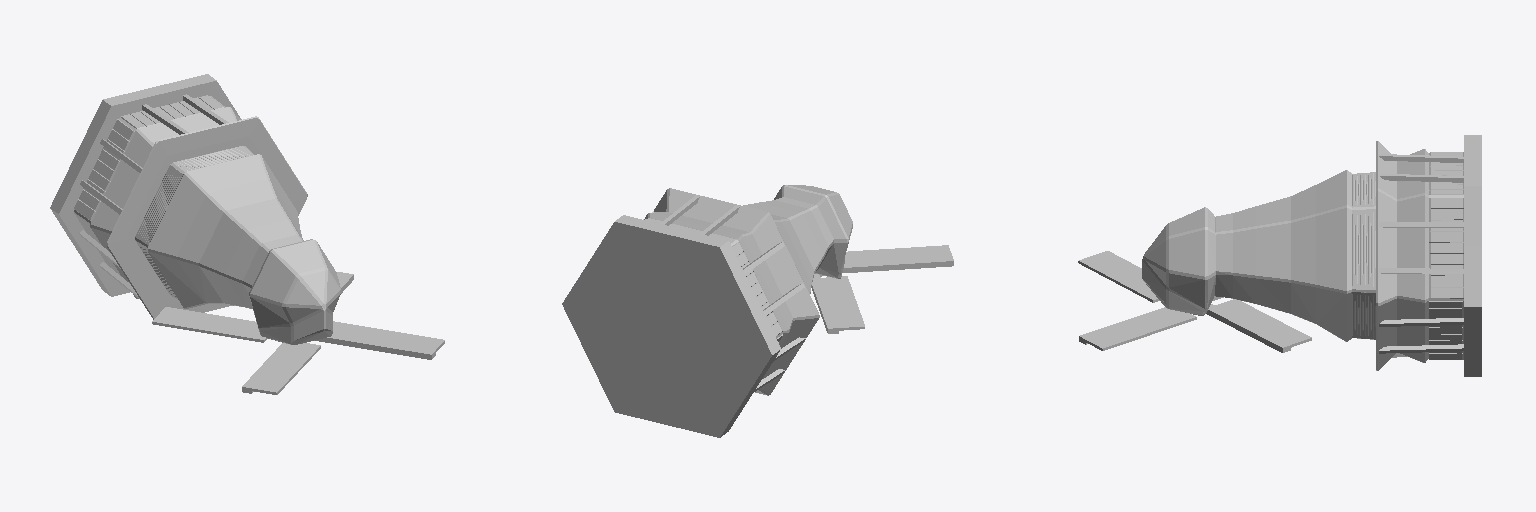
Rendered from Windmill.obj.
3 renders of one model, left to right at view 1: azimuth 30°, elevation 25°; view 2: azimuth 150°, elevation 25°; view 3: azimuth 270°, elevation 25°, orthographic.
Parts seen in each view (by area): view 1: Object.1, Object.2; view 2: Object.1, Object.2; view 3: Object.1, Object.2.
Part boxes in pixels (x1,y1,x2,y2): Object.1: (50, 74, 340, 344); Object.2: (152, 272, 444, 394); Object.1: (562, 185, 852, 437); Object.2: (812, 245, 953, 333); Object.1: (1142, 135, 1481, 376); Object.2: (1078, 251, 1311, 352).
Size of the model in its own units: 66.06 by 57.2 by 110.